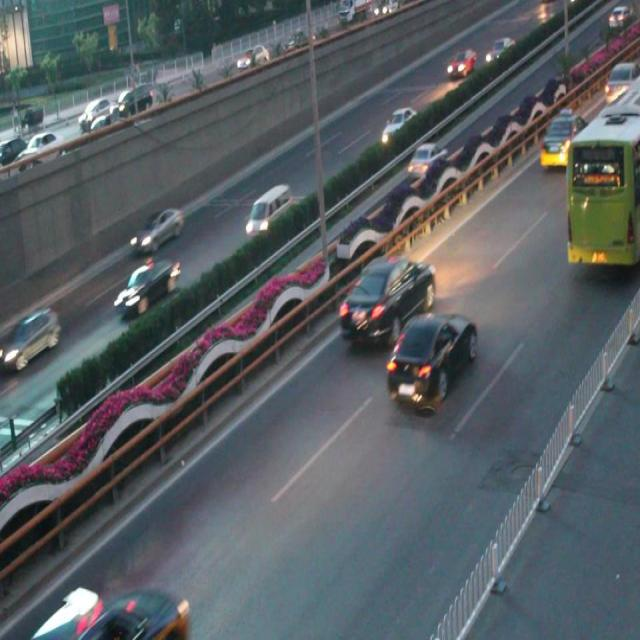car: (342, 252, 434, 348), (386, 313, 475, 408), (114, 254, 178, 320), (8, 303, 59, 377), (130, 204, 183, 258), (540, 110, 582, 171), (407, 142, 446, 180), (381, 102, 414, 143)
truck: (246, 182, 293, 238)
van: (563, 67, 640, 262)
